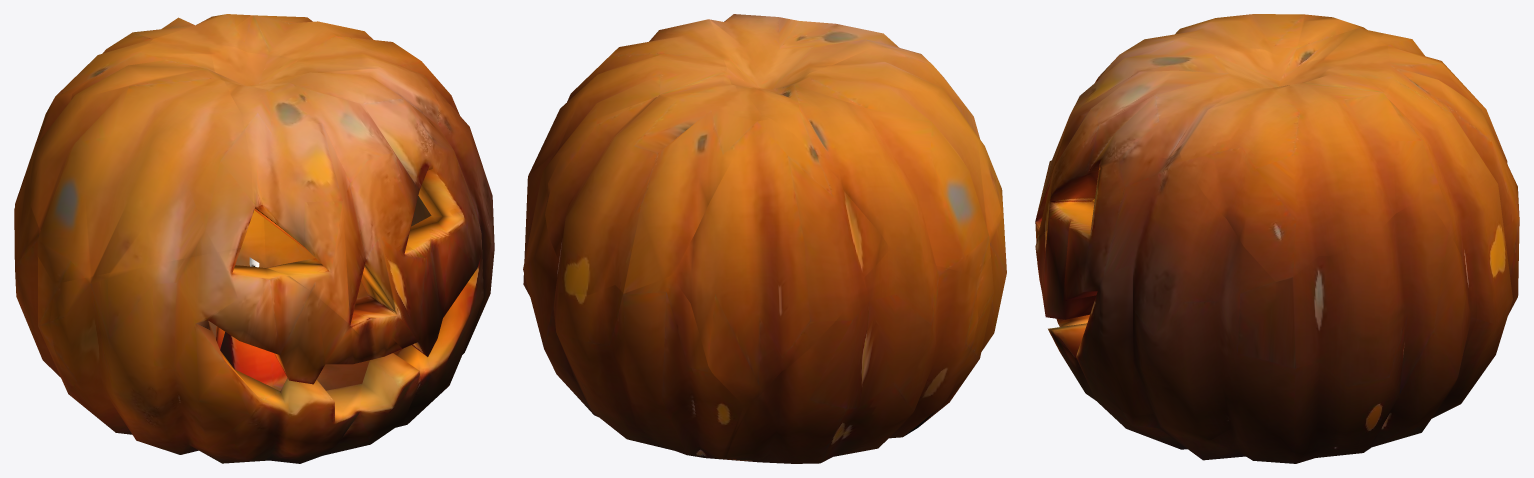
The model's file is bal_kabagi_parcali.glb.
3 views of the same model, side by side, from view 1: azimuth 30°, elevation 25°; view 2: azimuth 150°, elevation 25°; view 3: azimuth 270°, elevation 25° (orthographic).
Visible parts, largest first — view 1: p06, p07, p03, p10, p08, p01, p05, p11, p09, p04, p00; view 2: p09, p07, p05, p11, p00, p01, p03, p04, p06; view 3: p10, p04, p01, p03, p11, p07, p08, p00, p09.
Part boxes in pixels (x1,y1,x2,y2): p06: [50, 248, 363, 463]; p07: [28, 43, 252, 283]; p03: [208, 44, 434, 335]; p10: [384, 97, 494, 378]; p08: [216, 257, 452, 463]; p01: [218, 15, 459, 115]; p05: [14, 170, 79, 403]; p11: [124, 14, 250, 46]; p09: [19, 38, 161, 190]; p04: [264, 196, 429, 298]; p00: [208, 210, 265, 324]; p09: [674, 115, 889, 405]; p07: [748, 47, 1001, 280]; p05: [726, 249, 978, 463]; p11: [545, 92, 761, 294]; p00: [554, 273, 743, 459]; p01: [543, 19, 737, 153]; p03: [711, 14, 922, 95]; p04: [523, 145, 597, 416]; p06: [907, 176, 1006, 434]; p10: [1035, 152, 1275, 441]; p04: [1266, 195, 1476, 455]; p01: [1179, 65, 1422, 281]; p03: [1036, 37, 1341, 236]; p11: [1341, 45, 1518, 289]; p07: [1124, 14, 1384, 63]; p08: [1038, 268, 1333, 463]; p00: [1432, 175, 1519, 418]; p09: [1374, 33, 1507, 163].
Bounding box in the file's own units: 0.9774 × 0.7814 × 0.9751.
2 materials, 1 textured.
